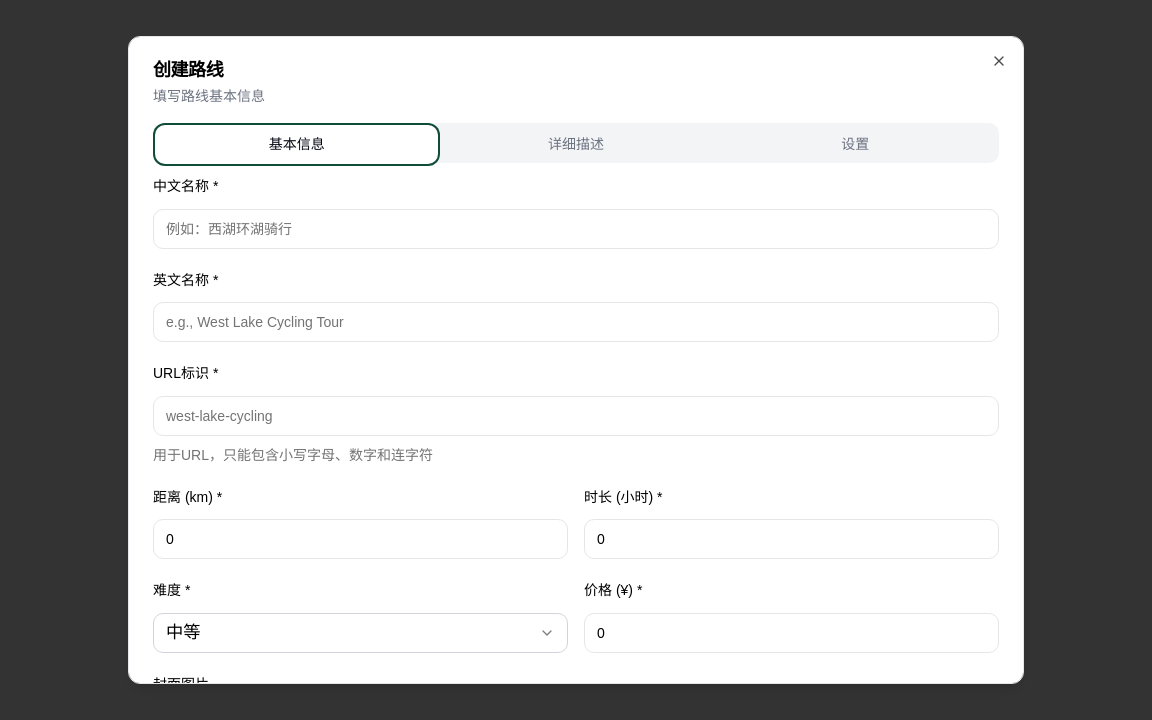
RouteEditor - Form Validation Tests (Requirements 8.2) › Character Counter Display › should update character count as user types
Press the mouse on the tab "详细描述" at (576,145), box [436,127,716,162]
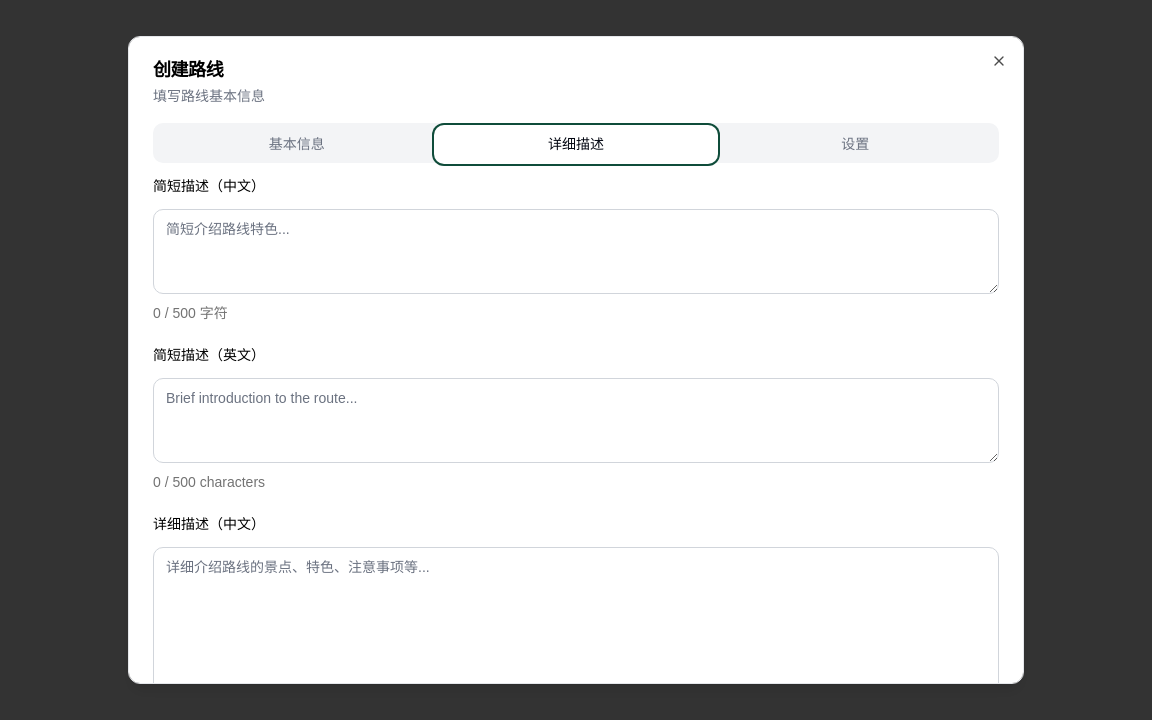
Expected: the text box named "shortDescZh" is shown
// Type first text
Type "Hello" into the text box named "shortDescZh".
click(576, 251); type("Hello")  # box [153,209,999,294]
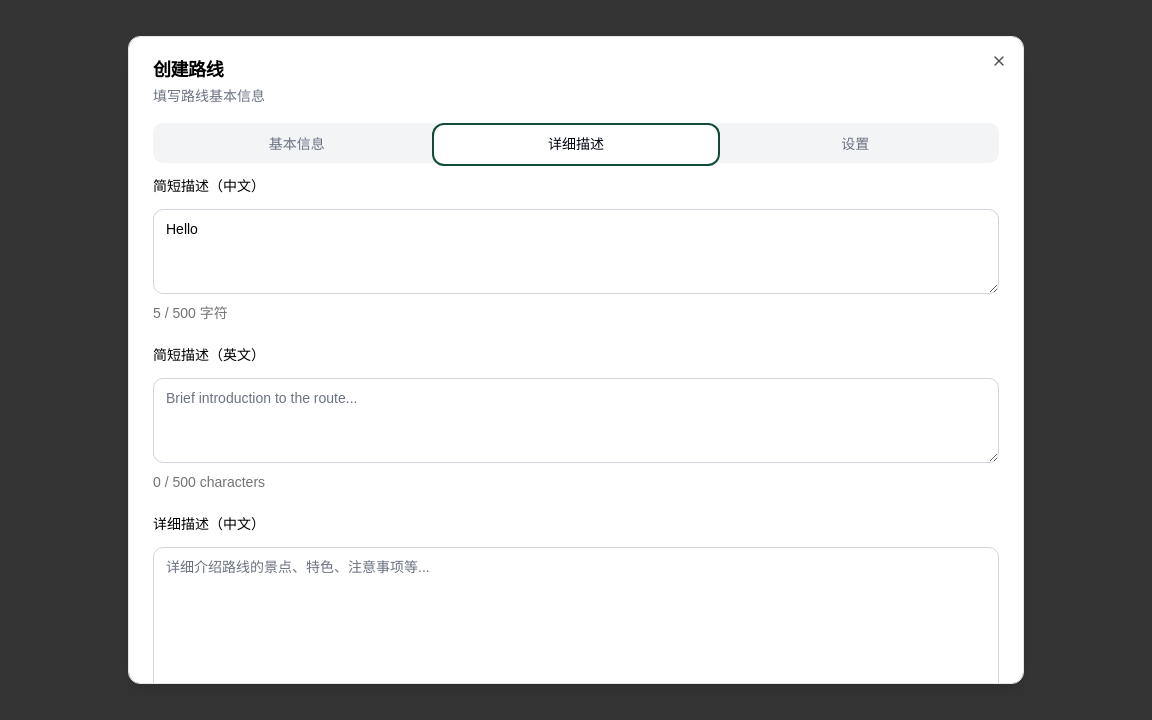
Expected: the text "5 / 500 字符" is shown, [153,305,228,321]
// Type more text
Replace the text in the text box named "shortDescZh" with "Hello World" at (576,251), box [153,209,999,294]
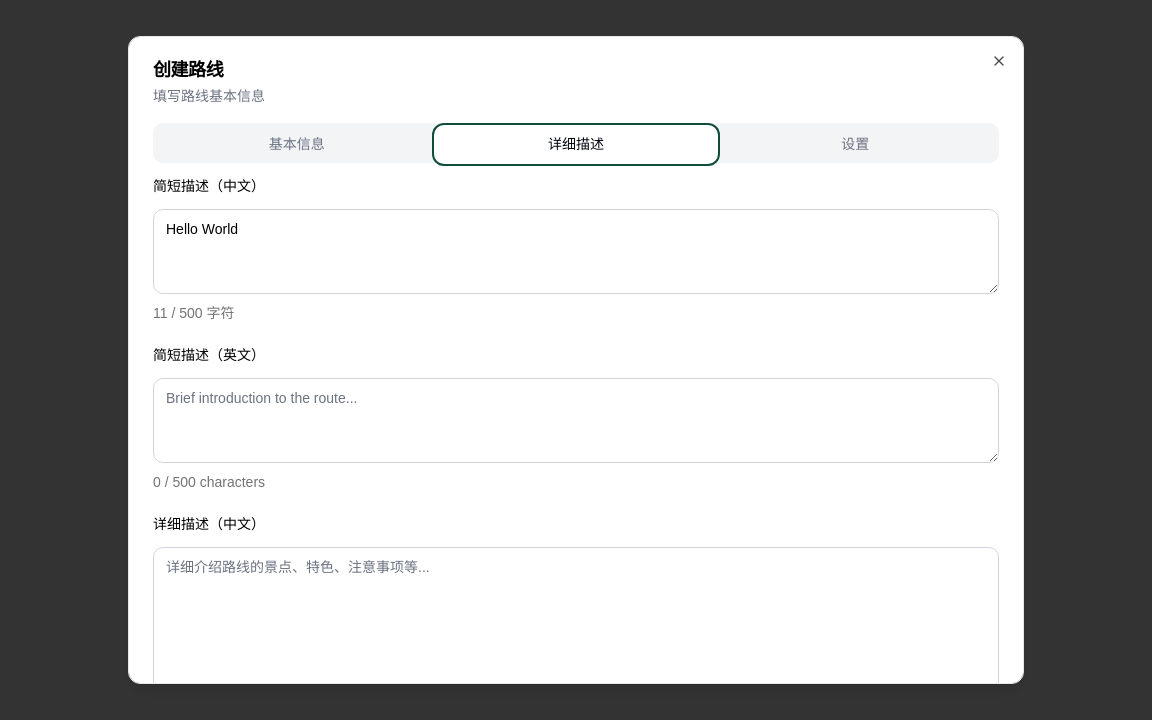
Expected: the text "11 / 500 字符" is shown, [153,305,234,321]
